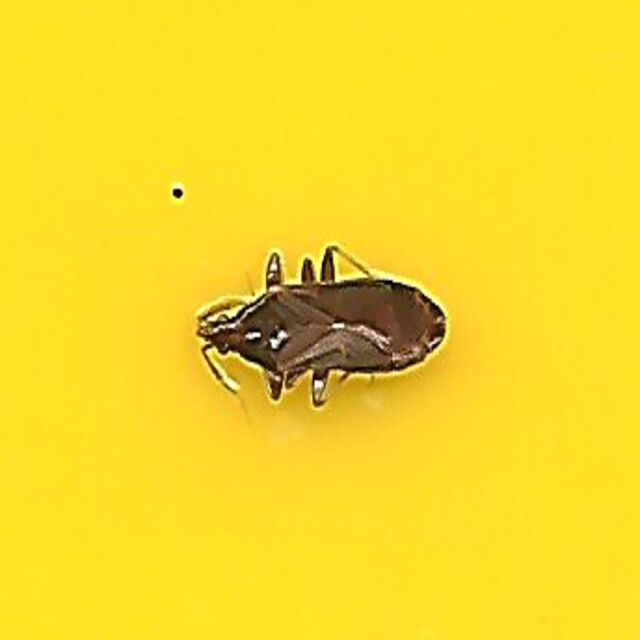Plecoptera: (186, 228, 454, 412)
